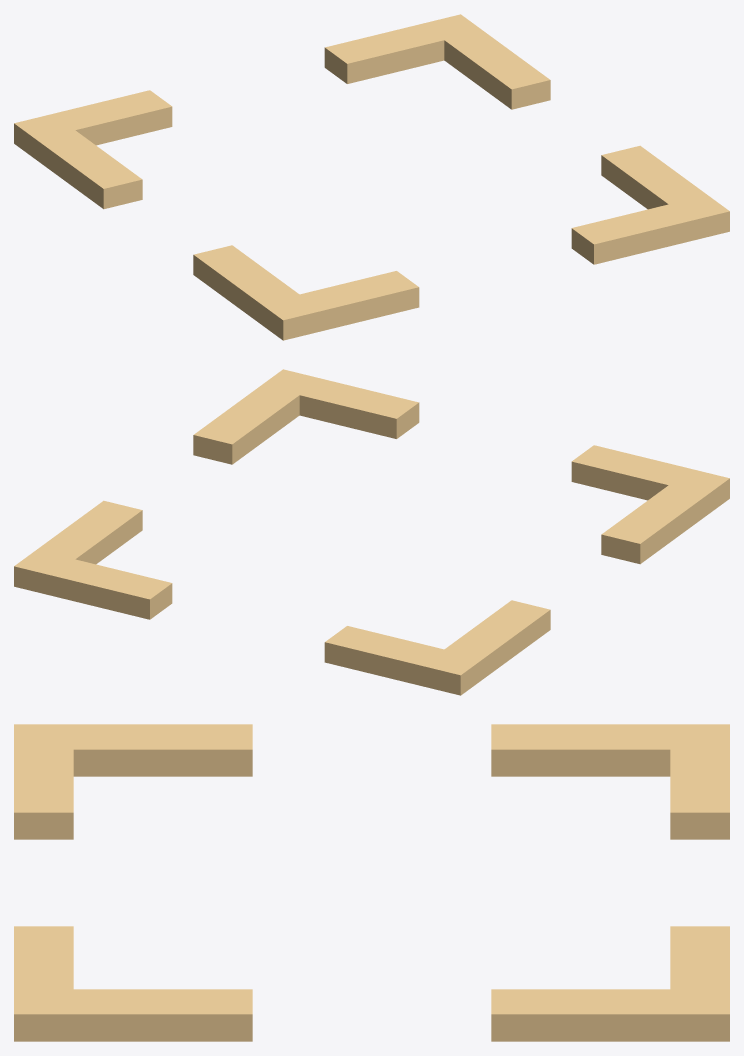
File: SelectableArea.glb
The picture shows the model from 3 angles, top to bottom: view 1: azimuth 30°, elevation 25°; view 2: azimuth 150°, elevation 25°; view 3: azimuth 270°, elevation 25°; orthographic projection. The views are drawn at different scales.
Visible parts, largest first — view 1: Untitled; view 2: Untitled; view 3: Untitled.
Boxes of the visible parts, x1=… form: Untitled: x1=14, y1=14, x2=729, y2=340; Untitled: x1=14, y1=369, x2=729, y2=695; Untitled: x1=14, y1=724, x2=729, y2=1041.
Size of the model in its own units: 2.3 by 0.1 by 2.4.
Materials: 1 (1 with a texture image).
